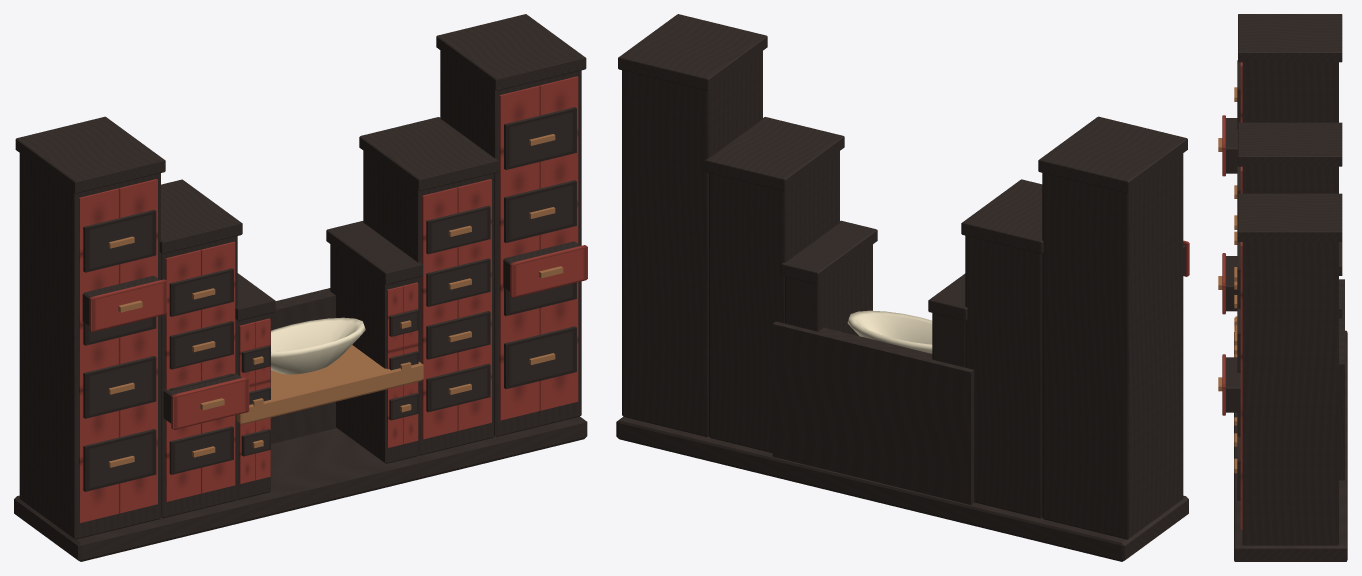
File: balanced.glb
The picture shows the model from 3 angles, left to right: view 1: azimuth 30°, elevation 25°; view 2: azimuth 150°, elevation 25°; view 3: azimuth 270°, elevation 25°; orthographic projection. The views are drawn at different scales.
Parts seen in each view (by area): view 1: Right stepped bank, Left stepped bank, Plinth and open niche, Three open drawers, Porcelain counting bowl; view 2: Left stepped bank, Right stepped bank, Plinth and open niche, Porcelain counting bowl; view 3: Right stepped bank, Left stepped bank, Plinth and open niche, Three open drawers.
Boxes of the visible parts, x1=… form: Right stepped bank: x1=326, y1=14, x2=586, y2=463; Left stepped bank: x1=15, y1=116, x2=275, y2=539; Plinth and open niche: x1=14, y1=288, x2=587, y2=561; Three open drawers: x1=82, y1=241, x2=587, y2=429; Porcelain counting bowl: x1=271, y1=317, x2=365, y2=374; Left stepped bank: x1=928, y1=116, x2=1187, y2=539; Right stepped bank: x1=618, y1=14, x2=877, y2=452; Plinth and open niche: x1=616, y1=321, x2=1188, y2=561; Porcelain counting bowl: x1=847, y1=310, x2=932, y2=353; Right stepped bank: x1=1234, y1=193, x2=1342, y2=545; Left stepped bank: x1=1234, y1=14, x2=1342, y2=357; Plinth and open niche: x1=1234, y1=279, x2=1347, y2=561; Three open drawers: x1=1218, y1=115, x2=1240, y2=415.
Size of the model in its own units: 4.2 by 2.98 by 1.05.
1 material, 1 textured.
